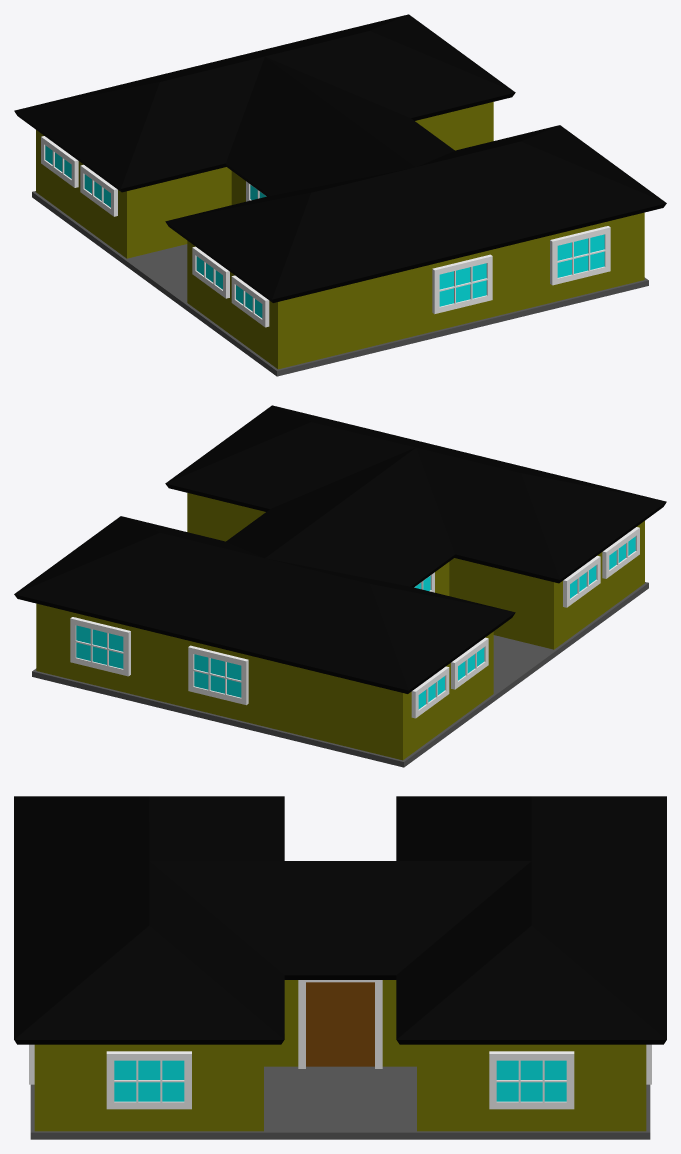
File: house_player_connected.fbx
3 views of the same model, one above another, from view 1: azimuth 30°, elevation 25°; view 2: azimuth 150°, elevation 25°; view 3: azimuth 270°, elevation 25° (orthographic). The views are drawn at different scales.
Visible parts, largest first — view 1: Cube; view 2: Cube; view 3: Cube.
Part boxes in pixels (box(x1,y1,x2,y2)): Cube: box(14, 14, 666, 376); Cube: box(14, 405, 666, 767); Cube: box(14, 796, 666, 1139).
Bounding box in the file's own units: 1508 × 474 × 1708.
